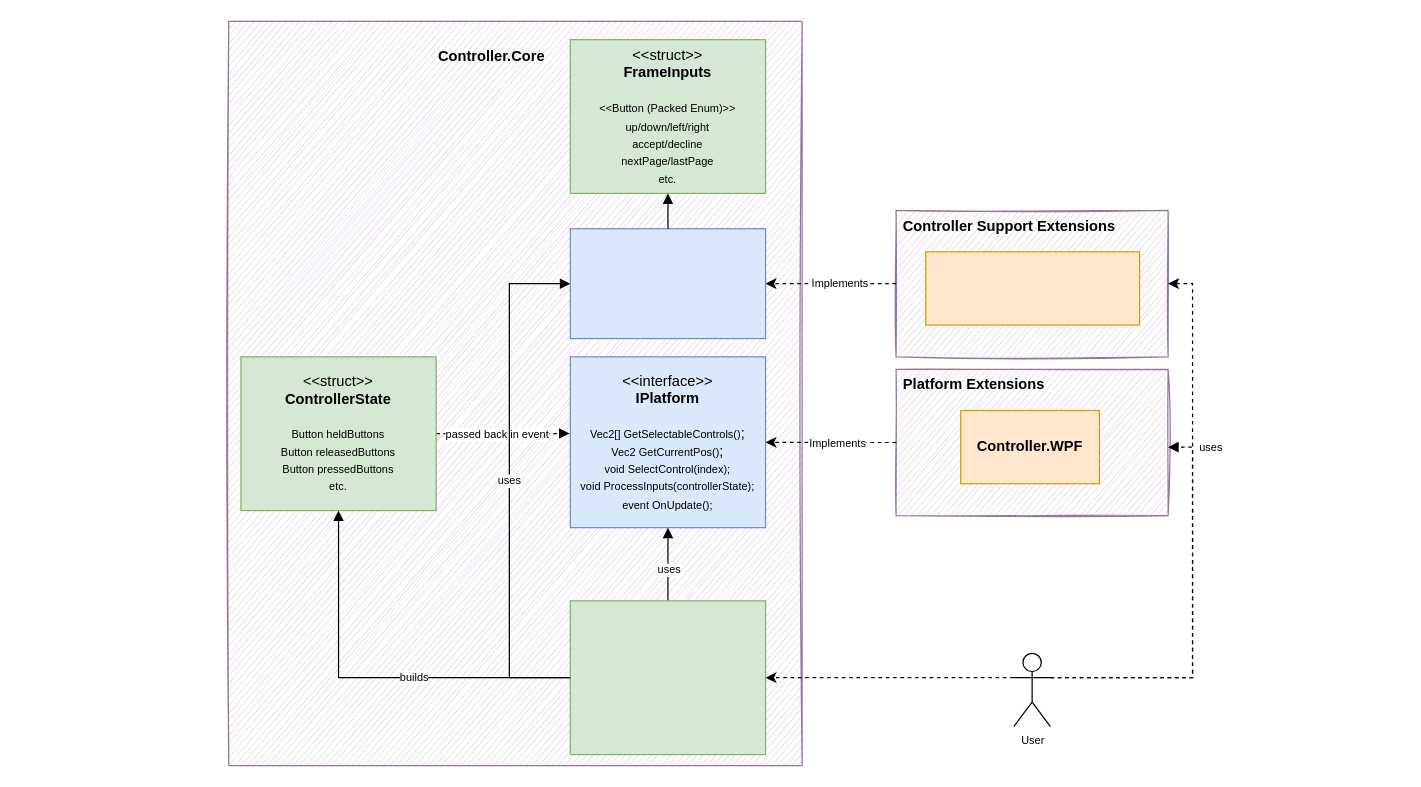
Some shapes in this 1421 by 787 pixel diagram are drawn without their labels. The shapes that lost their labels are listed below. From the top down, each one's box as (x1, y1, x2, y2) in pixels, then its label:
(569, 228, 766, 339): <<interface>> IController Inputs GetInputs();
(925, 251, 1140, 325): Controller.ReloadedInput
(569, 600, 766, 755): <<class>> Navigator Navigator(IUIPlatform, IController) void OnUpdate()
